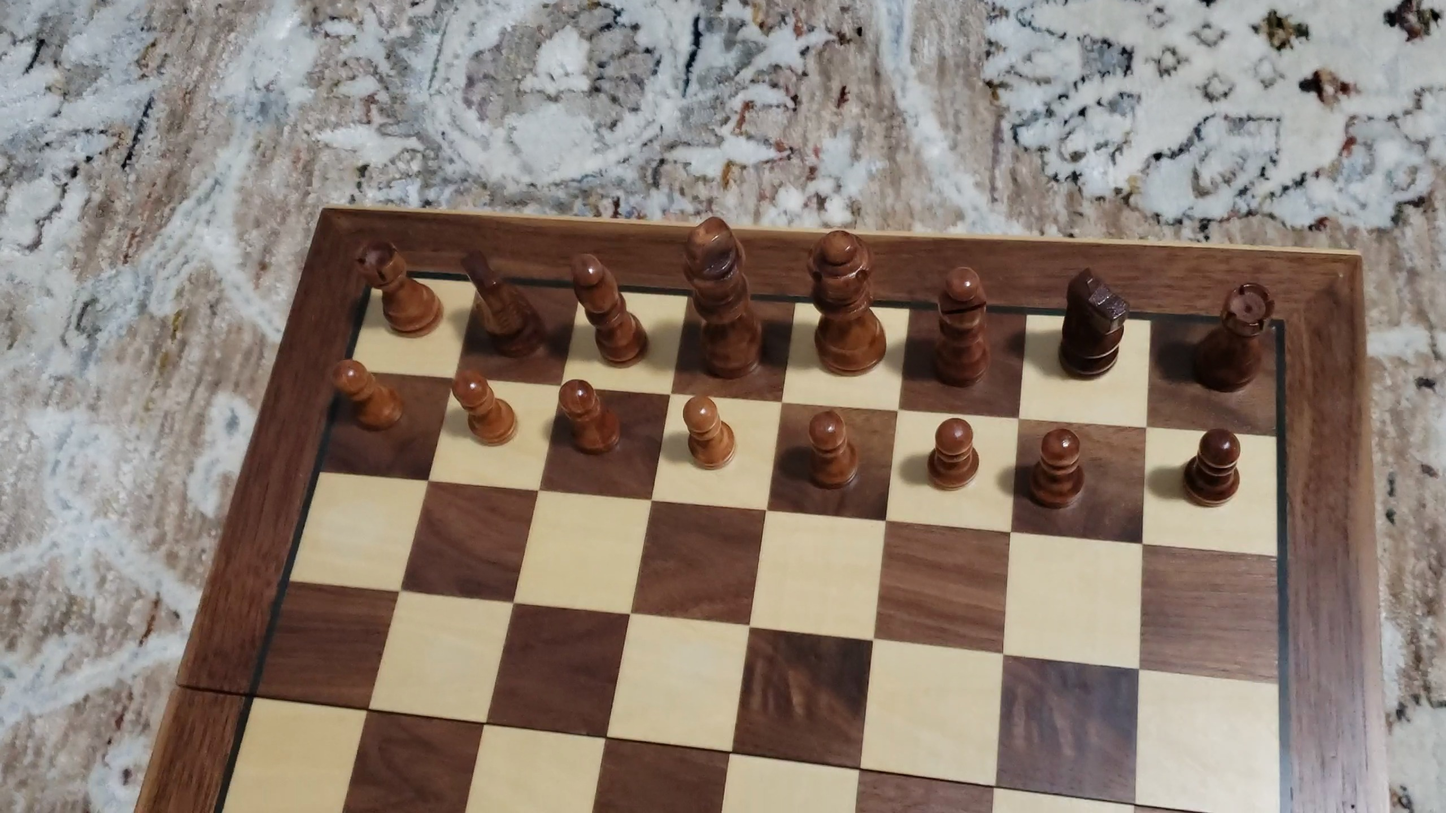black-bishop: (569, 250, 648, 368), (931, 262, 992, 388)
black-king: (680, 213, 765, 379)
black-knight: (460, 248, 548, 359), (1055, 265, 1133, 380)
black-pawn: (330, 356, 406, 434), (1179, 425, 1247, 511), (554, 376, 624, 458), (1025, 423, 1088, 514), (451, 365, 518, 448), (803, 407, 863, 495), (924, 414, 982, 495), (680, 392, 737, 472)
black-queen: (803, 224, 889, 376)
black-rook: (1188, 281, 1277, 395), (354, 238, 445, 339)
